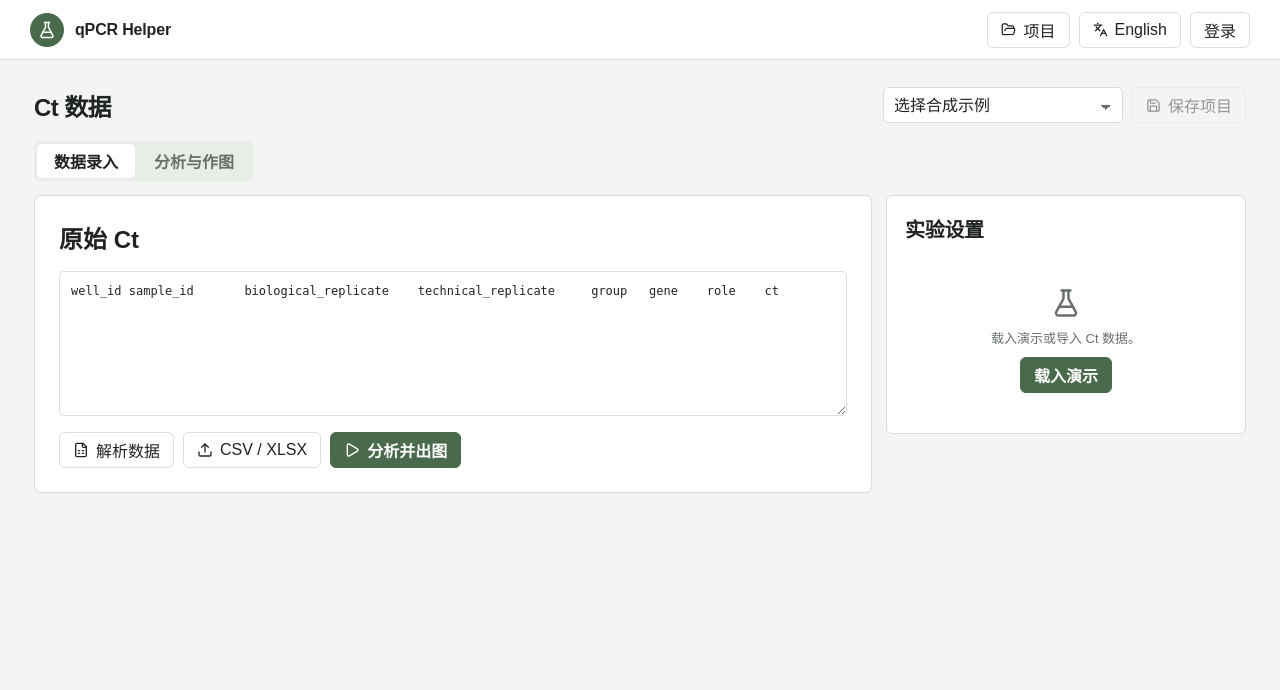
qPCR workbench › paginates raw Ct rows instead of hiding wells after the first page
Select "多基因 · 表达谱热图" in the dropdown named "示例数据" at (1003, 105), box [883,87,1123,123]
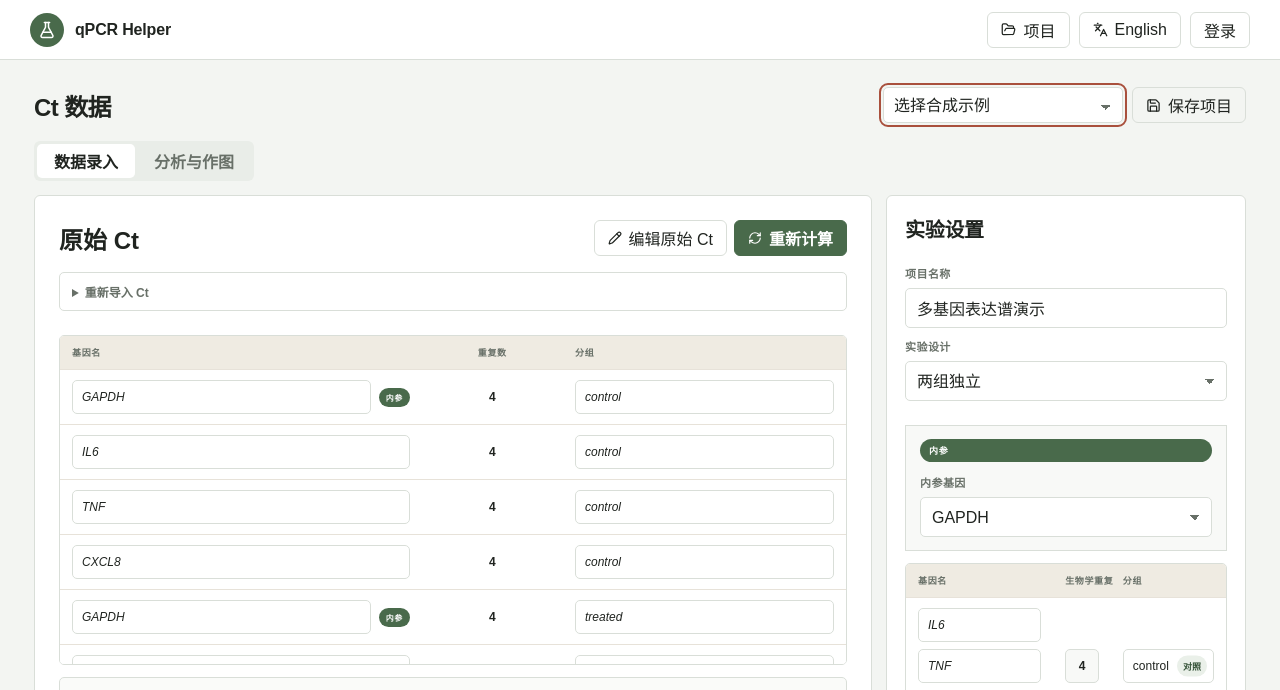
Click the button "编辑原始 Ct" at (660, 238), box [594,220,727,256]
(page scrolled)
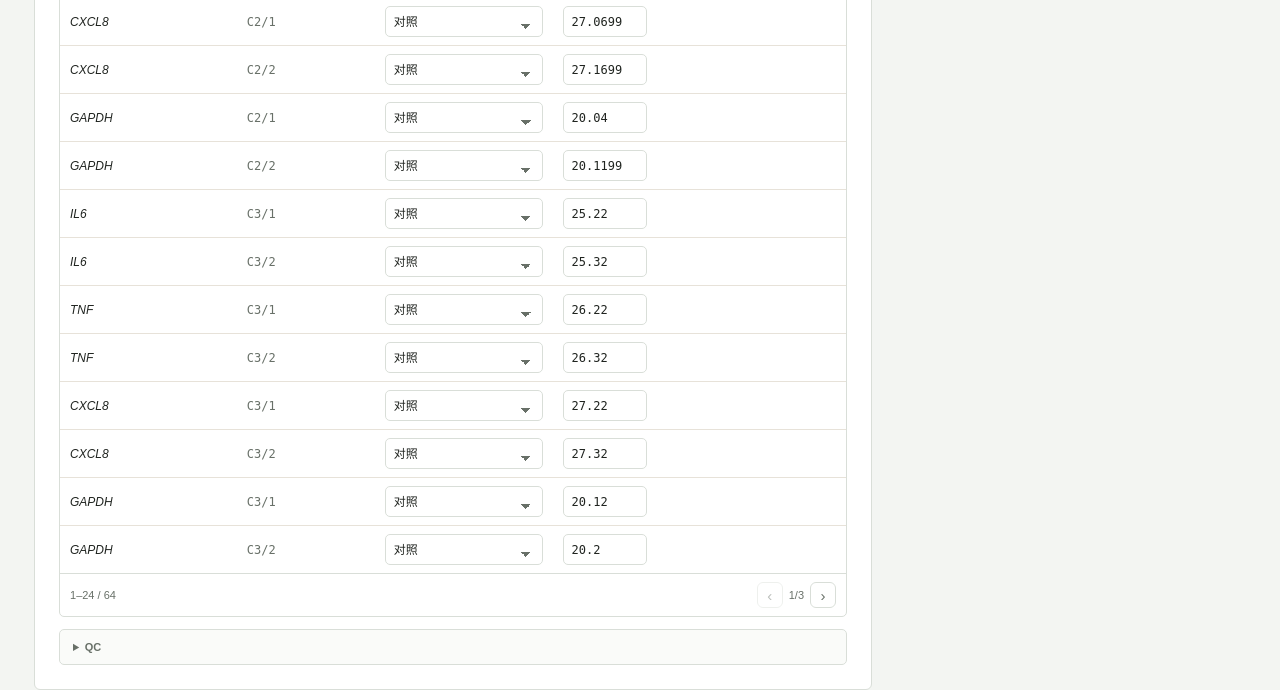
Expected: the button named "下一页" is enabled
Click the button named "下一页" at (823, 595), box [810,582,836,608]
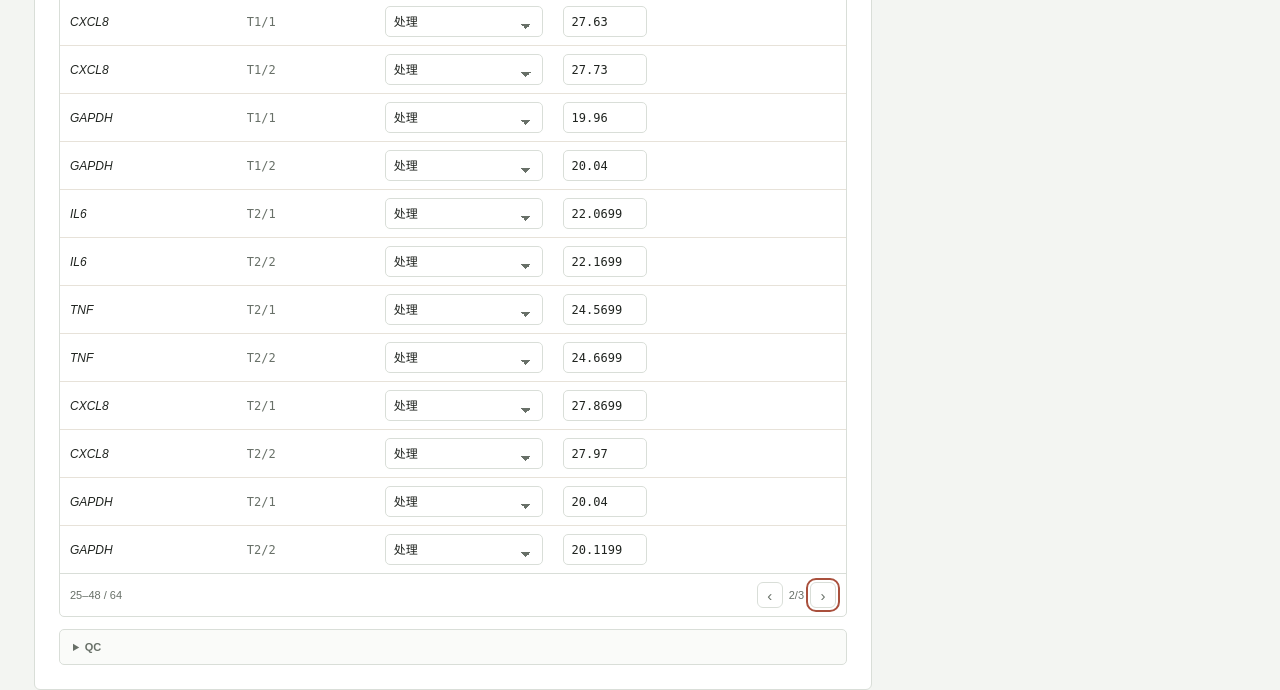
Expected: the text "2/3" is shown, [789,589,804,601]
